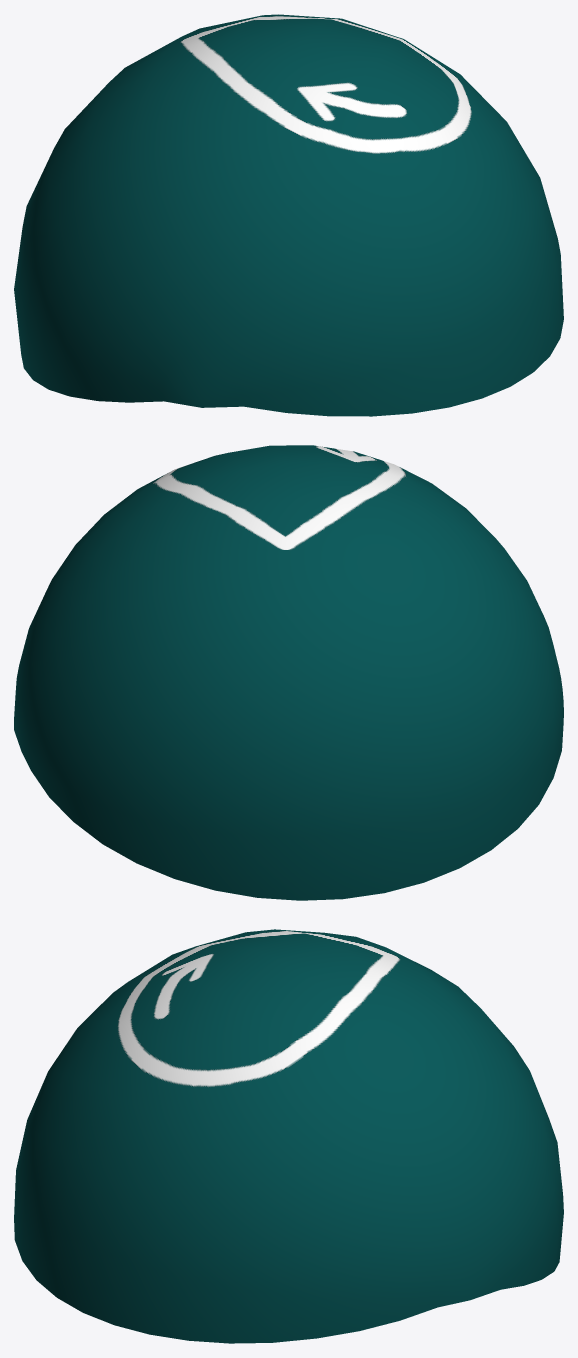
Rendered from Palette_Button_Raise.fbx.
The picture shows the model from 3 angles, top to bottom: view 1: azimuth 30°, elevation 25°; view 2: azimuth 150°, elevation 25°; view 3: azimuth 270°, elevation 25°; orthographic projection.
Visible parts, largest first — view 1: pSphere50; view 2: pSphere50; view 3: pSphere50.
Boxes of the visible parts, x1,y1,x2,y2 form: pSphere50: [14, 14, 563, 416]; pSphere50: [14, 445, 563, 900]; pSphere50: [14, 929, 563, 1343].
Size of the model in its own units: 2.29 by 1.46 by 2.29.
1 material, 1 textured.
